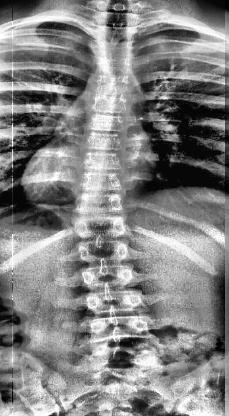Vertebrae: (89, 332, 159, 362), (82, 286, 144, 318), (75, 235, 131, 264), (72, 212, 128, 240), (86, 314, 150, 336), (82, 262, 136, 288), (74, 192, 126, 218), (90, 90, 132, 116), (76, 170, 124, 192), (85, 112, 129, 134), (96, 8, 139, 30), (96, 37, 136, 59), (98, 24, 138, 44), (80, 152, 124, 170), (96, 56, 134, 76), (93, 72, 131, 92), (84, 134, 124, 152)
